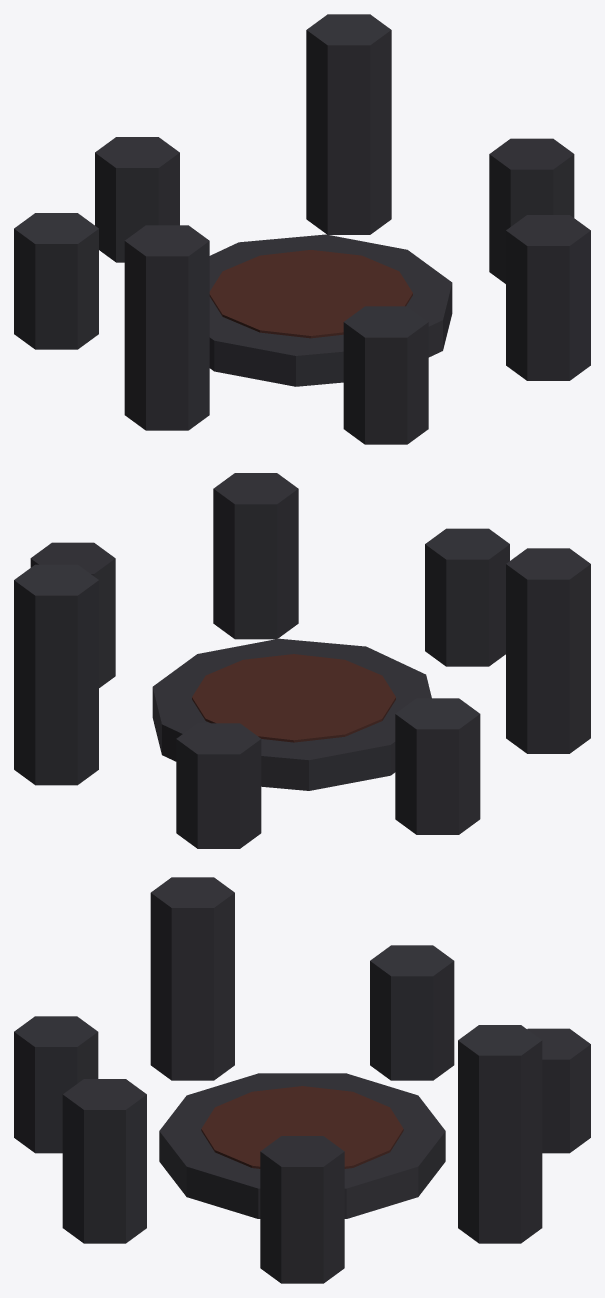
File: volcano-landmark.glb
3 renders of one model, top to bottom at view 1: azimuth 30°, elevation 25°; view 2: azimuth 150°, elevation 25°; view 3: azimuth 270°, elevation 25°, orthographic.
Visible parts, largest first — view 1: volcano-landmark; view 2: volcano-landmark; view 3: volcano-landmark.
Boxes of the visible parts, x1,y1,x2,y2 form: volcano-landmark: [14, 14, 590, 444]; volcano-landmark: [14, 473, 590, 848]; volcano-landmark: [14, 877, 590, 1283].
Bounding box in the file's own units: 3.28 × 1.23 × 3.42.
